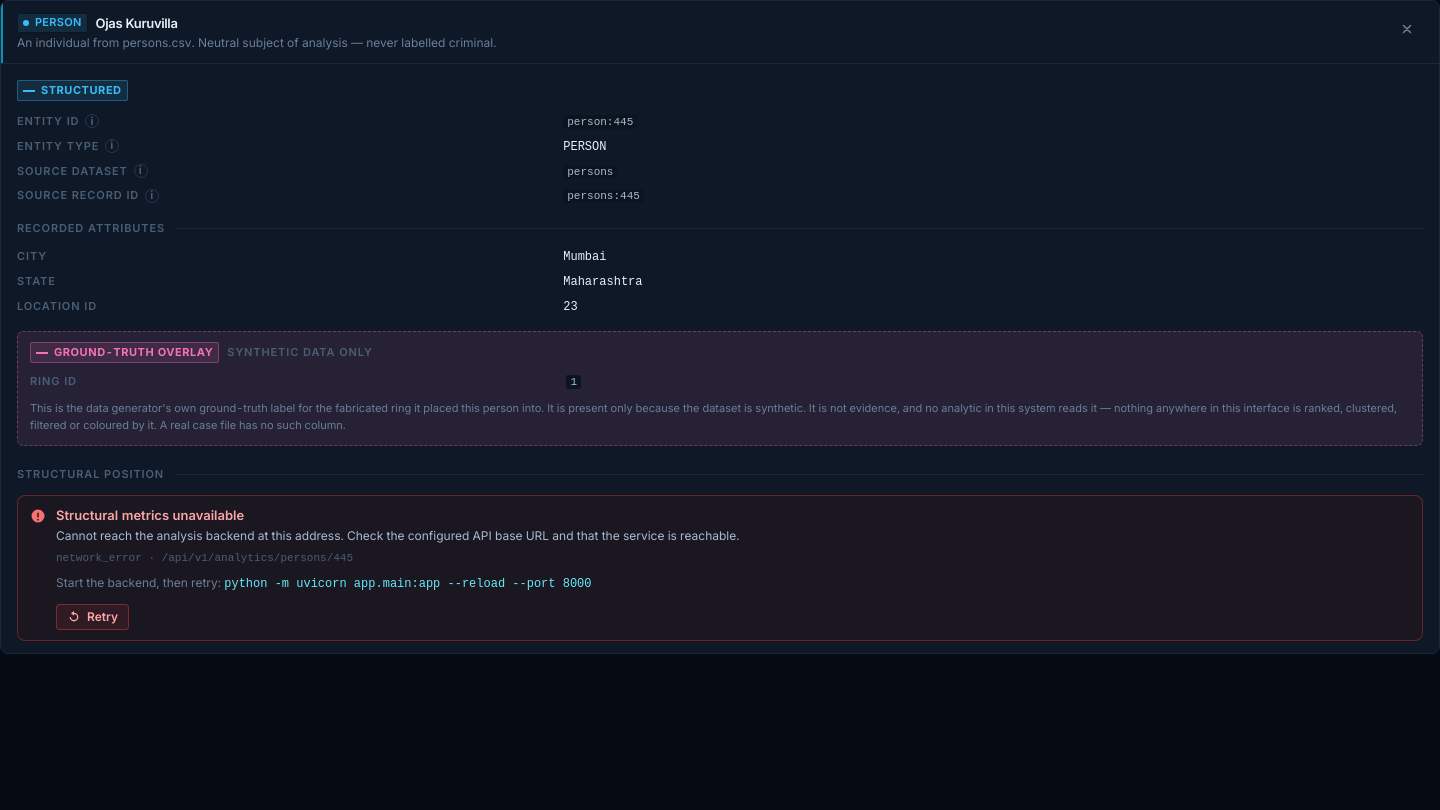
Test case: NodeDetailsPanel — structural position › keeps the identity block when the metrics request fails, and offers a retry
The width and height of the screenshot is (1440, 810).
Expected: the message with test id "error-state" is shown, [17,495,1423,641]
Expected: the text "Structural metrics unavailable" is shown, [56,507,244,523]
Click the button "Retry" at [92, 617], box [56,604,129,630]
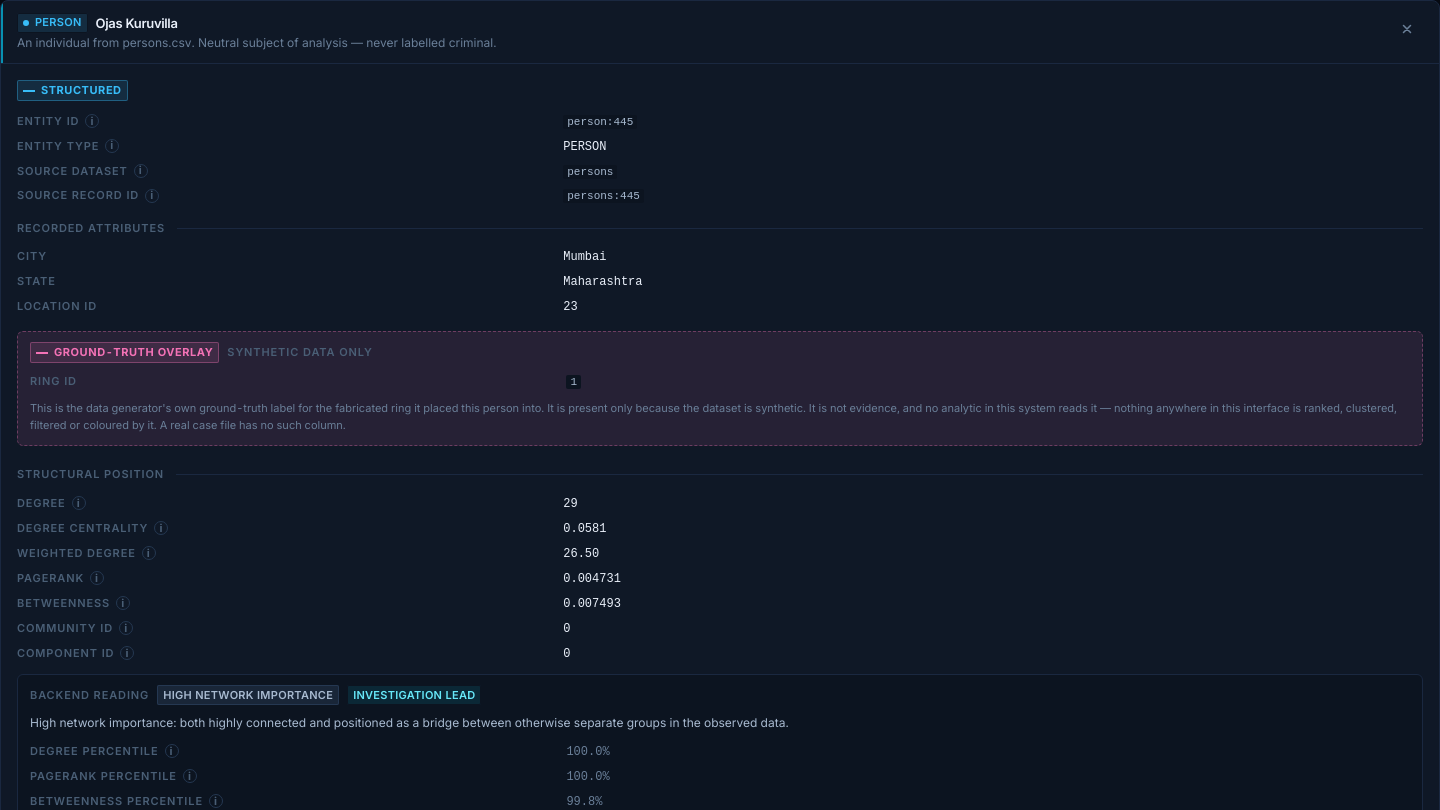
Expected: the text "29" is shown, [563,497,578,511]
